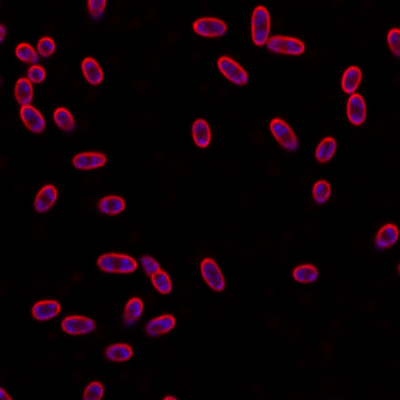MP265: (217, 55, 249, 86), (250, 4, 272, 48), (17, 103, 47, 135), (97, 252, 137, 275), (201, 257, 227, 292), (266, 34, 306, 56), (190, 16, 227, 38), (31, 183, 58, 213), (79, 56, 104, 86), (346, 92, 367, 127), (59, 315, 97, 334), (340, 64, 364, 94), (70, 152, 107, 171), (31, 298, 61, 321), (289, 262, 319, 284), (13, 77, 35, 106), (315, 136, 337, 164), (102, 343, 134, 361), (191, 118, 210, 148)
Oblique: (141, 253, 174, 295), (269, 116, 299, 152), (143, 314, 177, 340), (373, 222, 400, 250), (96, 194, 127, 217), (121, 297, 143, 329), (53, 107, 76, 133), (15, 41, 37, 64), (36, 34, 56, 57), (313, 179, 332, 203)
